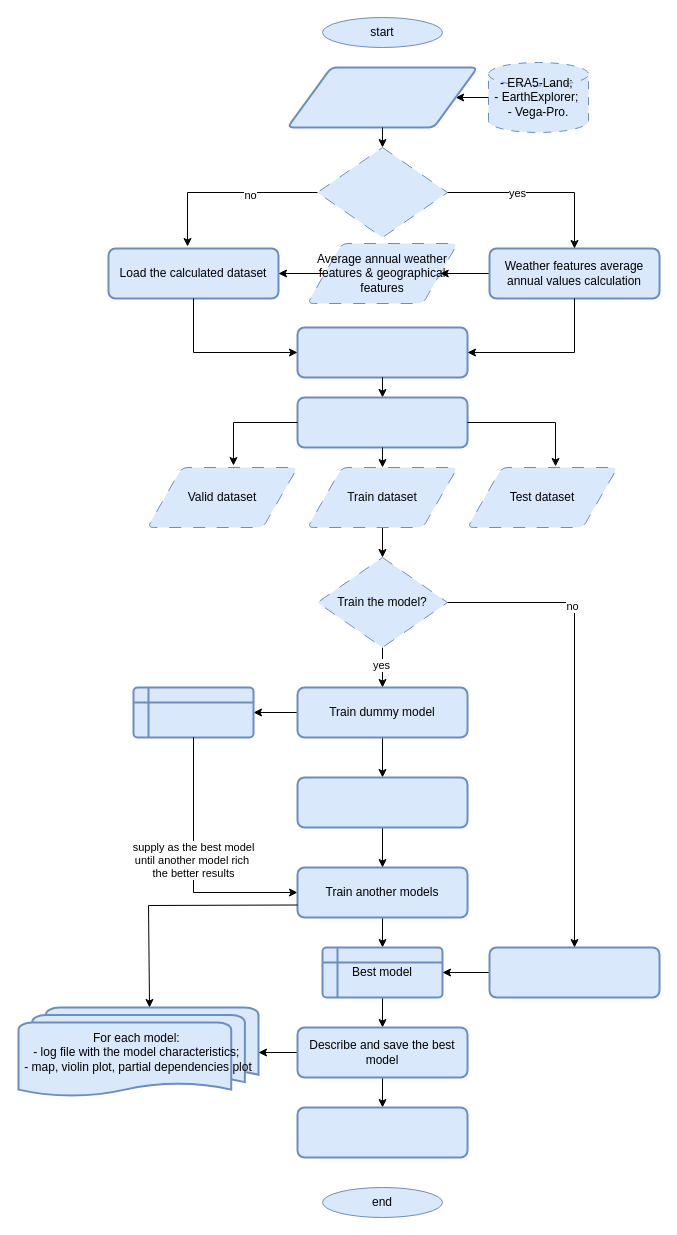
This 677x1235 diagram has some shape labels left out. The centre of each missing label's shape, as x and y in pixels:
"- Abies dataset; - other species dataset." belongs at point (382, 97).
"Calculate the average annual weather features?" belongs at point (382, 192).
"Compare the models" belongs at point (382, 1132).
"Drop the less important features" belongs at point (382, 802).
"Dummy model" belongs at point (193, 712).
"Load the best model" belongs at point (574, 972).
"Prepare train, valid and test datasets." belongs at point (382, 352).
"Remove the features with VIF > 5" belongs at point (382, 422).
